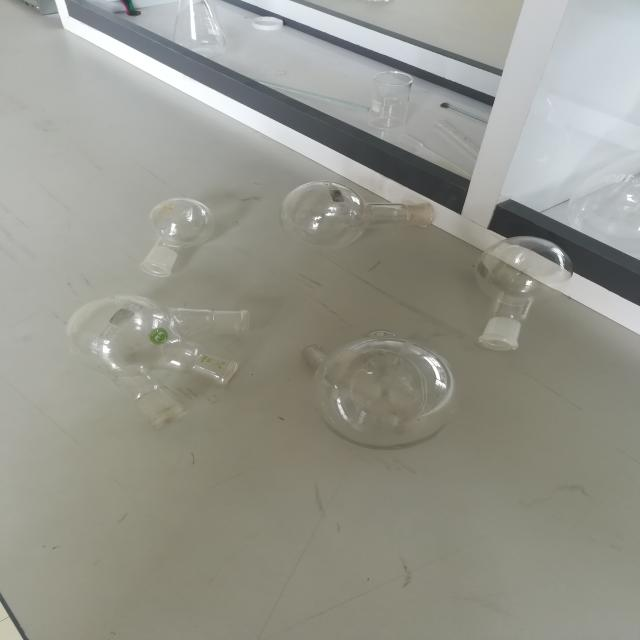Round_Bottom_Flask_Borosilicate_Glass_1_Neck: (443, 200, 590, 360), (282, 165, 447, 269), (102, 170, 232, 292)
Round_Bottom_Flask_Borosilicate_Glass_2_Neck: (276, 312, 480, 459)
Round_Bottom_Flask_Borosilicate_Glass_3_Neck: (39, 282, 275, 442)
